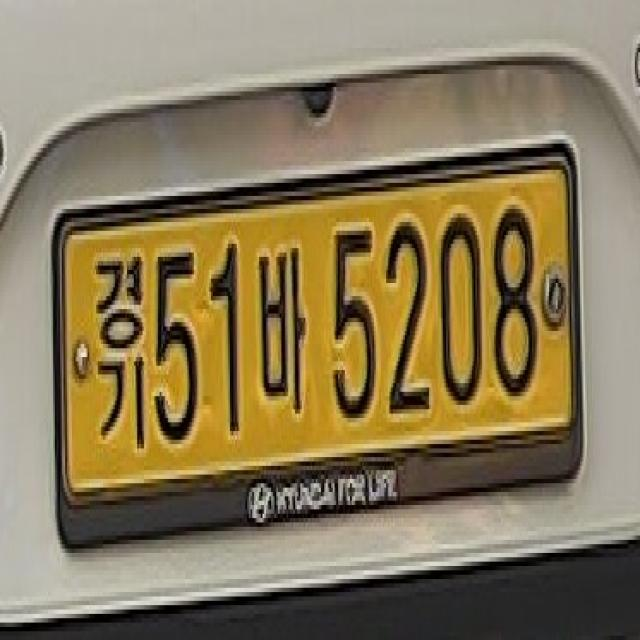plat: (51, 137, 584, 545)
